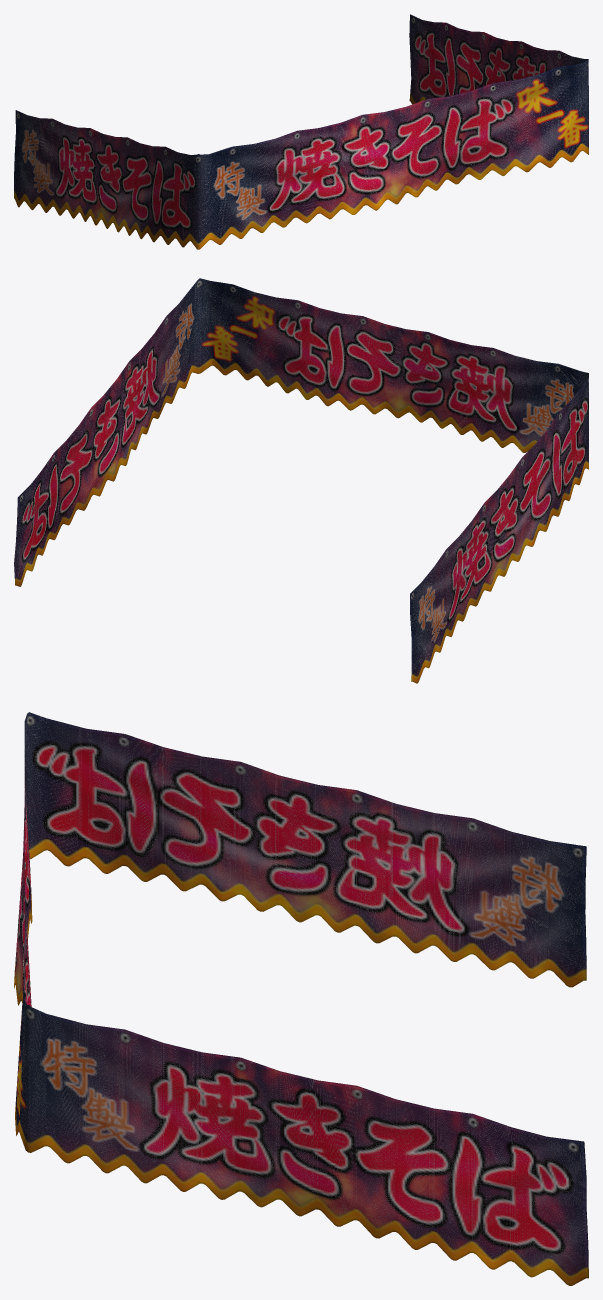
The model's file is jsf_ShopCurtain_FriedNoodles_01.fbx.
3 renders of one model, top to bottom at view 1: azimuth 30°, elevation 25°; view 2: azimuth 150°, elevation 25°; view 3: azimuth 270°, elevation 25°, orthographic. The views are drawn at different scales.
Visible parts, largest first — view 1: jsf_ShopCurtain_FriedNoodles_01; view 2: jsf_ShopCurtain_FriedNoodles_01; view 3: jsf_ShopCurtain_FriedNoodles_01.
Part boxes in pixels (x1,y1,x2,y2): jsf_ShopCurtain_FriedNoodles_01: (14,14,588,249); jsf_ShopCurtain_FriedNoodles_01: (14,278,588,683); jsf_ShopCurtain_FriedNoodles_01: (14,712,588,1285).
Bounding box in the file's own units: 269 × 116 × 216.
